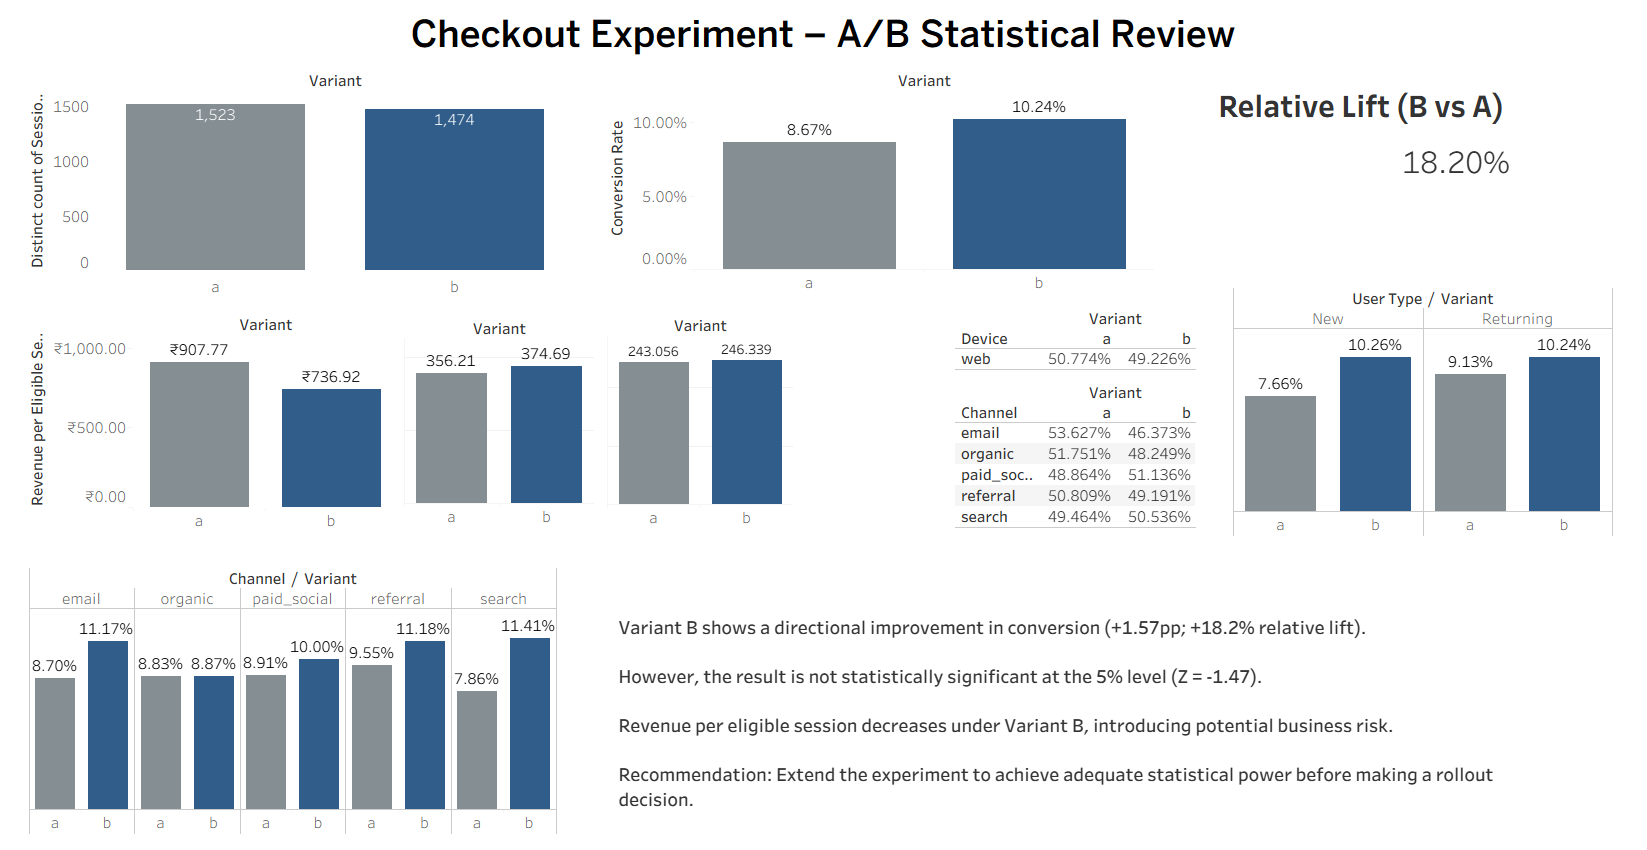

Layout of this report page (visuals, bound fields, positions):
{"tool":"tableau","page":{"name":"Checkout Experiment – Statistical Review","canvas":[1000,1000],"units":"permille","ordinal":3},"visuals":[{"type":"text","box":[6.1,3.5,989.7,84.8]},{"type":"worksheet","title":"AB_Sample_Size","mark":"Automatic","rows":["session_id"],"cols":["variant"],"box":[15.8,87.1,335,264.8]},{"type":"worksheet","title":"AB_Conversion_Uplift","mark":"Automatic","rows":["Calculation_2002694502389956608"],"cols":["variant"],"box":[365.4,87.1,335,260.2]},{"type":"worksheet","title":"Relative Lift (B vs A)","mark":"Text","box":[733.4,98.7,215.3,191.6]},{"type":"worksheet","title":"New vs Returning","mark":"Automatic","rows":["Calculation_2002694502389956608"],"cols":["Calculation_2002694503053320223","variant"],"box":[748.6,340.3,229.3,289.2]},{"type":"worksheet","title":"Device Sanity ","mark":"Automatic","rows":["device"],"cols":["variant"],"box":[580.8,363.5,155.2,76.7]},{"type":"worksheet","title":"AB_Revenue_Comparison","mark":"Automatic","rows":["Calculation_2002694502393806849"],"cols":["variant"],"box":[15.8,370.5,228.6,253.2]},{"type":"worksheet","title":"Avg Time to Checkout by Variant","mark":"Automatic","rows":["time_to_checkout_sec"],"cols":["variant"],"box":[370.5,371.7,112.1,248.6]},{"type":"worksheet","title":"Avg Time to Purchase by Variant","mark":"Automatic","rows":["time_to_purchase_sec"],"cols":["variant"],"box":[248.3,375.2,114.6,243.9]},{"type":"worksheet","title":"Channel Sanity ","mark":"Automatic","rows":["channel"],"cols":["variant"],"box":[580.8,449.5,154.5,188.2]},{"type":"worksheet","title":"HTE-lite Channel","mark":"Automatic","rows":["Calculation_2002694502389956608"],"cols":["channel","variant"],"box":[21.5,665.5,318.6,310.1]},{"type":"worksheet","title":"AB_Final_Decision","mark":"Text","box":[374.9,714.3,577,264.8]}]}

Visuals, with their boxes on the dashboard's canvas, which has no fixed pixel size, in thousandths of its width and height (x1, y1, x2, y2). These are canvas units, not pixel positions in the 1647x850 screenshot, which may show the page scaled, cropped or inside an application window:
text: [6, 4, 996, 88]
"AB_Sample_Size" worksheet: [16, 87, 351, 352]
"AB_Conversion_Uplift" worksheet: [365, 87, 700, 347]
"Relative Lift (B vs A)" worksheet (Text marks): [733, 99, 949, 290]
"New vs Returning" worksheet: [749, 340, 978, 630]
"Device Sanity " worksheet: [581, 364, 736, 440]
"AB_Revenue_Comparison" worksheet: [16, 370, 244, 624]
"Avg Time to Checkout by Variant" worksheet: [370, 372, 483, 620]
"Avg Time to Purchase by Variant" worksheet: [248, 375, 363, 619]
"Channel Sanity " worksheet: [581, 450, 735, 638]
"HTE-lite Channel" worksheet: [22, 666, 340, 976]
"AB_Final_Decision" worksheet (Text marks): [375, 714, 952, 979]
